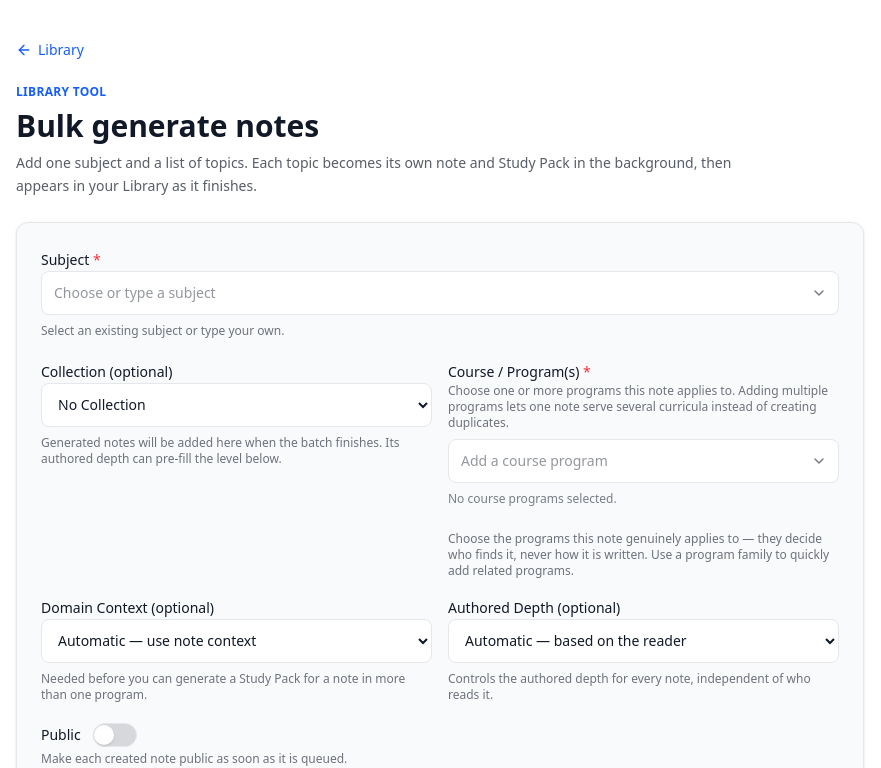
it: BulkGenerationPageClient › warns that public notes with no Authored Depth won't appear under that filter
Click the switch named "public". click: (115, 734)
box: [93,722,137,746]
(page scrolled)
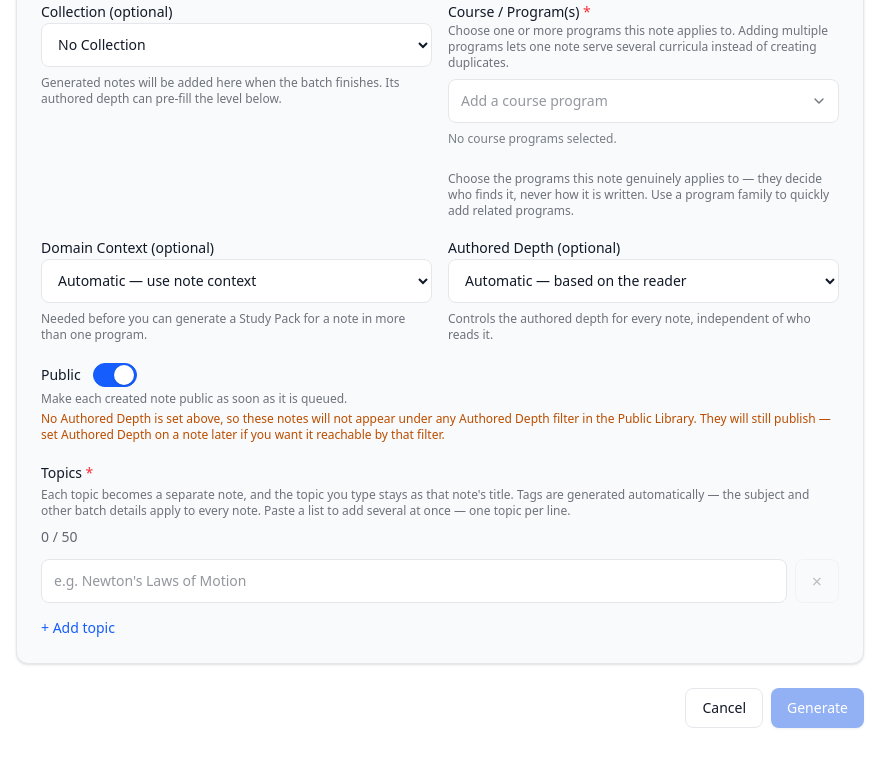
expect the text "No Authored Depth is set above, so these notes will not appear under any Authored Depth filter" is shown: met, box [41,410,831,442]
